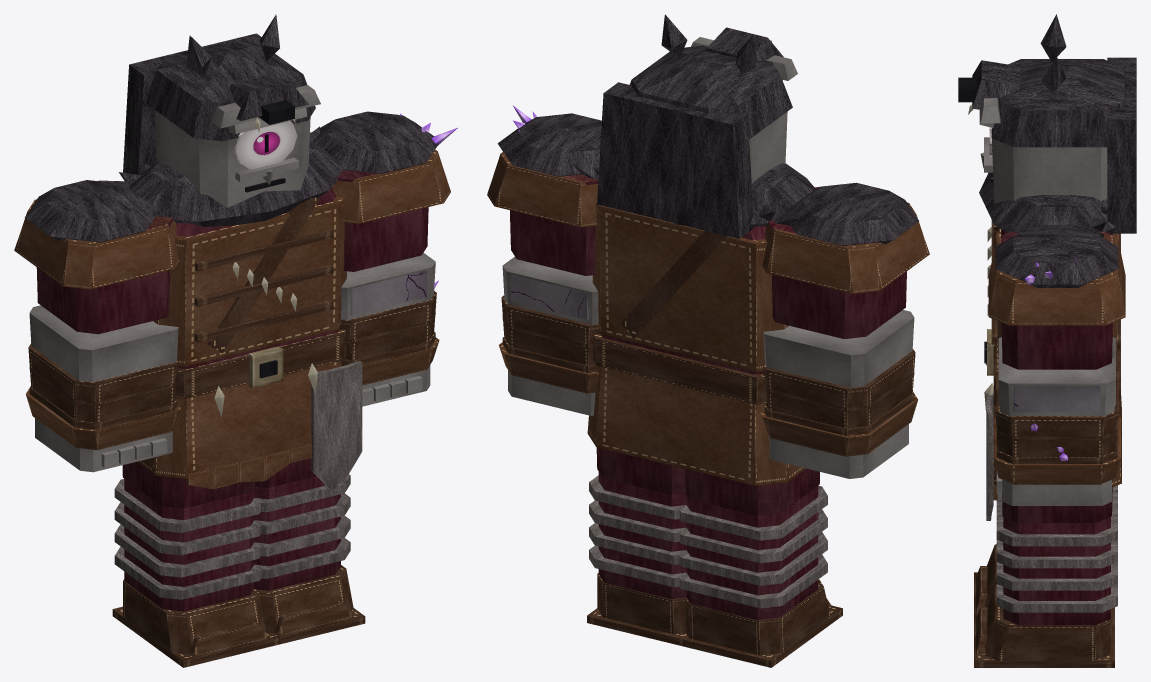
File: WolfRider.fbx
3 renders of one model, left to right at view 1: azimuth 30°, elevation 25°; view 2: azimuth 150°, elevation 25°; view 3: azimuth 270°, elevation 25°, orthographic.
Parts seen in each view (by area): view 1: UpperTorso_Armor, Head_Armor, LowerTorso_Armor, RightUpperArm_Armor, LeftUpperArm_Armor, RightLowerLeg_Armor, RightLowerArm_Armor, LeftLowerLeg_Armor, LeftLowerArm_Armor, RightFoot_Armor, RightHand_Armor, LeftFoot_Armor (+3 smaller); view 2: Head_Armor, UpperTorso_Armor, LowerTorso_Armor, RightUpperArm_Armor, RightLowerLeg_Armor, RightLowerArm_Armor, LeftUpperArm_Armor, LeftLowerLeg_Armor, LeftLowerArm_Armor, RightFoot_Armor, RightHand_Armor, LeftFoot_Armor (+3 smaller); view 3: Head_Armor, LeftUpperArm_Armor, LeftLowerLeg_Armor, LeftLowerArm_Armor, LeftFoot_Armor, LeftHand_Armor, UpperTorso_Armor, LowerTorso_Armor, LeftUpperLeg_Armor, RightFoot_Armor.
Part boxes in pixels (x1=…): UpperTorso_Armor: x1=98, y1=126, x2=346, y2=366; Head_Armor: x1=123, y1=14, x2=320, y2=207; LowerTorso_Armor: x1=136, y1=329, x2=362, y2=490; RightUpperArm_Armor: x1=14, y1=180, x2=179, y2=334; LeftUpperArm_Armor: x1=310, y1=111, x2=450, y2=271; RightLowerLeg_Armor: x1=114, y1=479, x2=260, y2=611; RightLowerArm_Armor: x1=28, y1=305, x2=178, y2=429; LeftLowerLeg_Armor: x1=252, y1=474, x2=350, y2=590; LeftLowerArm_Armor: x1=339, y1=253, x2=436, y2=366; RightFoot_Armor: x1=112, y1=579, x2=280, y2=667; RightHand_Armor: x1=26, y1=388, x2=181, y2=472; LeftFoot_Armor: x1=252, y1=565, x2=365, y2=644; Head_Armor: x1=597, y1=14, x2=797, y2=238; UpperTorso_Armor: x1=572, y1=163, x2=815, y2=372; LowerTorso_Armor: x1=587, y1=334, x2=805, y2=485; RightUpperArm_Armor: x1=762, y1=182, x2=929, y2=338; RightLowerLeg_Armor: x1=679, y1=485, x2=827, y2=620; RightLowerArm_Armor: x1=763, y1=310, x2=915, y2=435; LeftUpperArm_Armor: x1=487, y1=113, x2=601, y2=275; LeftLowerLeg_Armor: x1=589, y1=472, x2=688, y2=599; LeftLowerArm_Armor: x1=501, y1=256, x2=600, y2=372; RightFoot_Armor: x1=674, y1=579, x2=842, y2=667; RightHand_Armor: x1=760, y1=394, x2=917, y2=478; LeftFoot_Armor: x1=587, y1=573, x2=688, y2=646; Head_Armor: x1=958, y1=14, x2=1136, y2=233; LeftUpperArm_Armor: x1=988, y1=225, x2=1125, y2=369; LeftLowerLeg_Armor: x1=996, y1=490, x2=1117, y2=625; LeftLowerArm_Armor: x1=995, y1=337, x2=1118, y2=463; LeftFoot_Armor: x1=974, y1=585, x2=1114, y2=667; LeftHand_Armor: x1=993, y1=417, x2=1120, y2=505; UpperTorso_Armor: x1=979, y1=172, x2=1120, y2=369; LowerTorso_Armor: x1=984, y1=329, x2=1121, y2=520; LeftUpperLeg_Armor: x1=1002, y1=487, x2=1112, y2=522; RightFoot_Armor: x1=974, y1=544, x2=1114, y2=617.
Bounding box in the file's own units: 476 × 664 × 182.
Materials: 2 (2 with a texture image).
